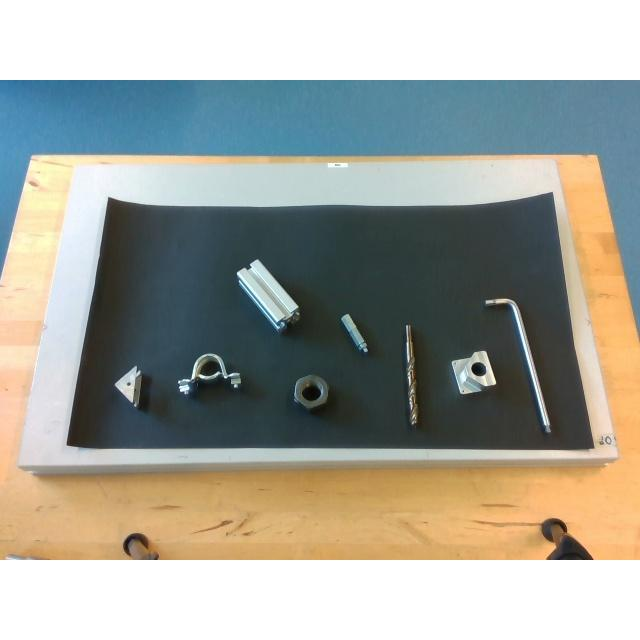AllenKey: (486, 298, 552, 434)
Drill: (404, 324, 420, 426)
Housing: (178, 353, 242, 393)
M30: (293, 374, 327, 408)
S40_40_G: (236, 259, 298, 329)
